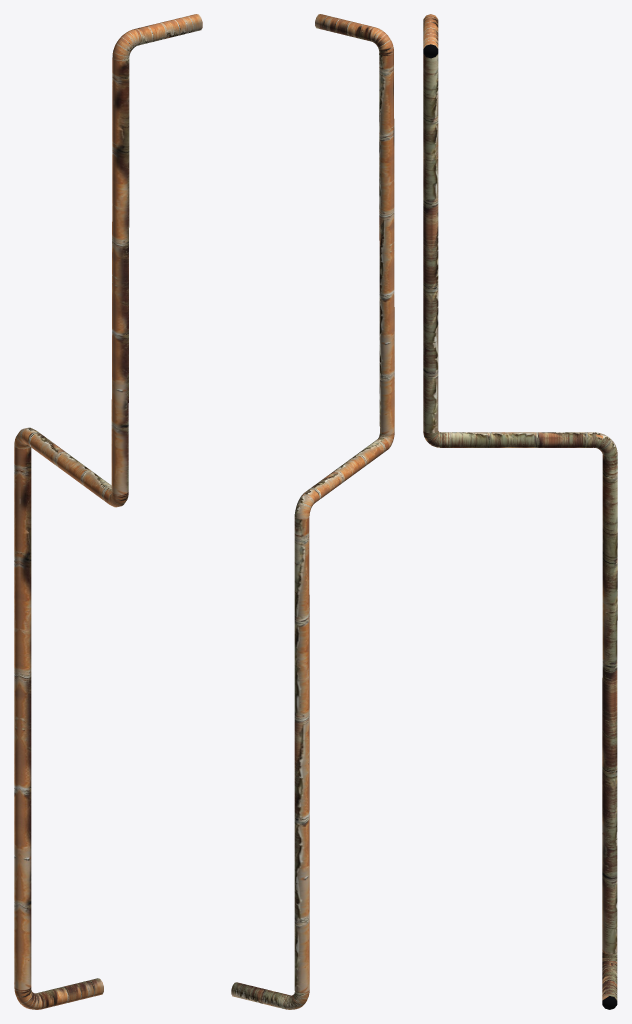
The model's file is wallPipe1.fbx.
The picture shows the model from 3 angles, left to right: view 1: azimuth 30°, elevation 25°; view 2: azimuth 150°, elevation 25°; view 3: azimuth 270°, elevation 25°; orthographic projection. The views are drawn at different scales.
Visible parts, largest first — view 1: pipeE200; view 2: pipeE200; view 3: pipeE200.
Boxes of the visible parts, x1=… form: pipeE200: x1=14, y1=14, x2=202, y2=1009; pipeE200: x1=231, y1=14, x2=394, y2=1009; pipeE200: x1=423, y1=14, x2=617, y2=1009.
Size of the model in its own units: 0.5333 by 6.23 by 1.14.
